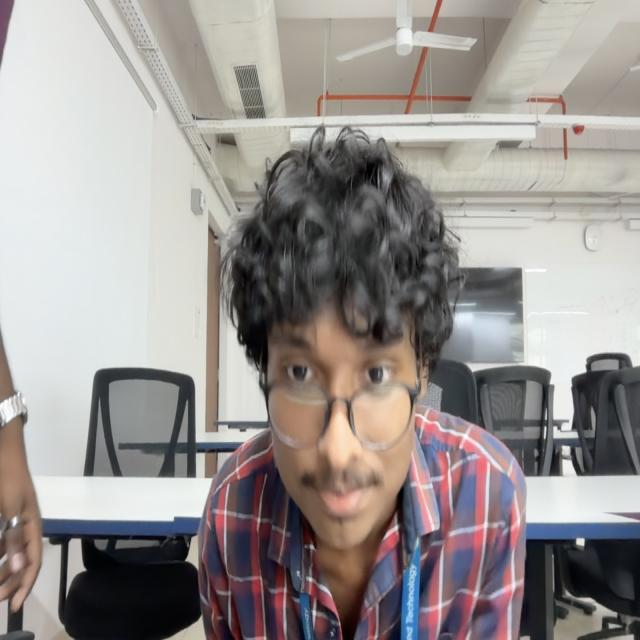darshan: (229, 141, 460, 549)
